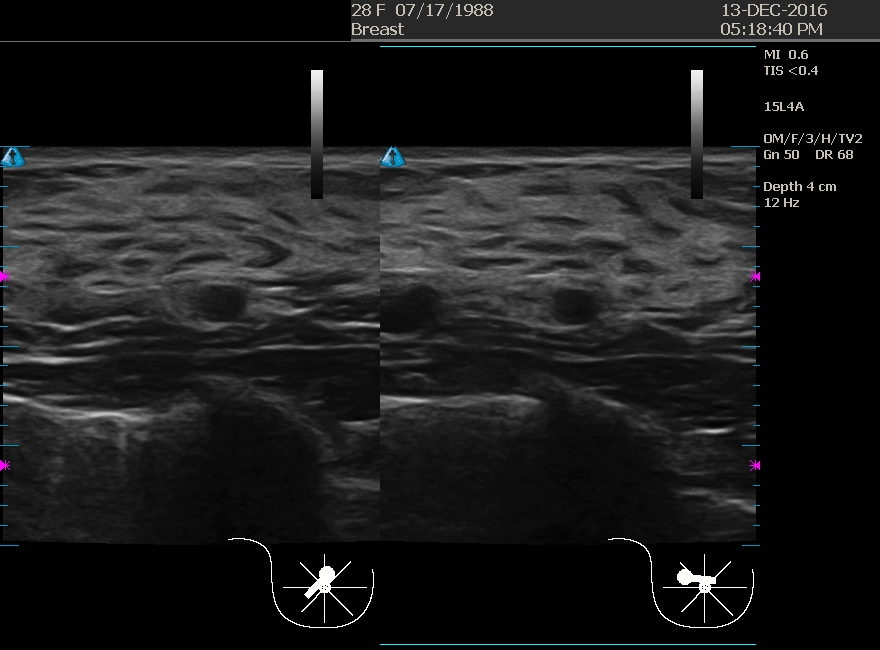BIRADS_2: (114, 212, 306, 404), (474, 215, 666, 407)
